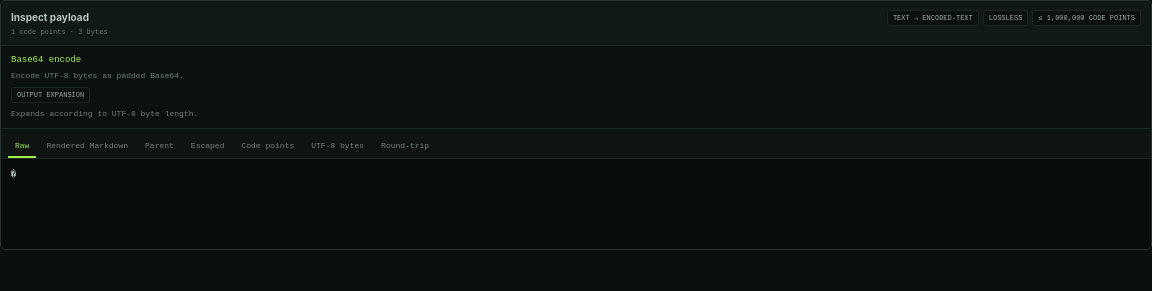
Test case: PayloadInspectionPanel › warns when UTF-8 encoding replaces an unpaired surrogate
Click the tab "UTF-8 bytes".
click(338, 147)  # box left=304, top=135, right=371, bottom=158
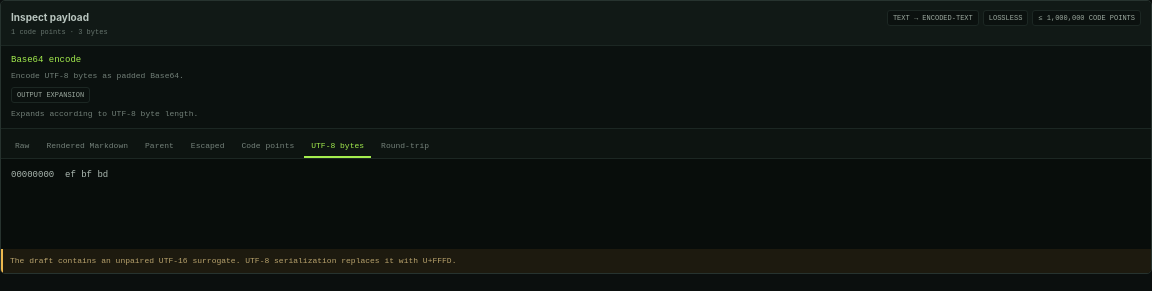
expect the text "unpaired UTF-16 surrogate" is shown: met, box left=10, top=256, right=456, bottom=265
expect the text "00000000 ef bf bd" is shown: met, box left=1, top=159, right=1151, bottom=249
